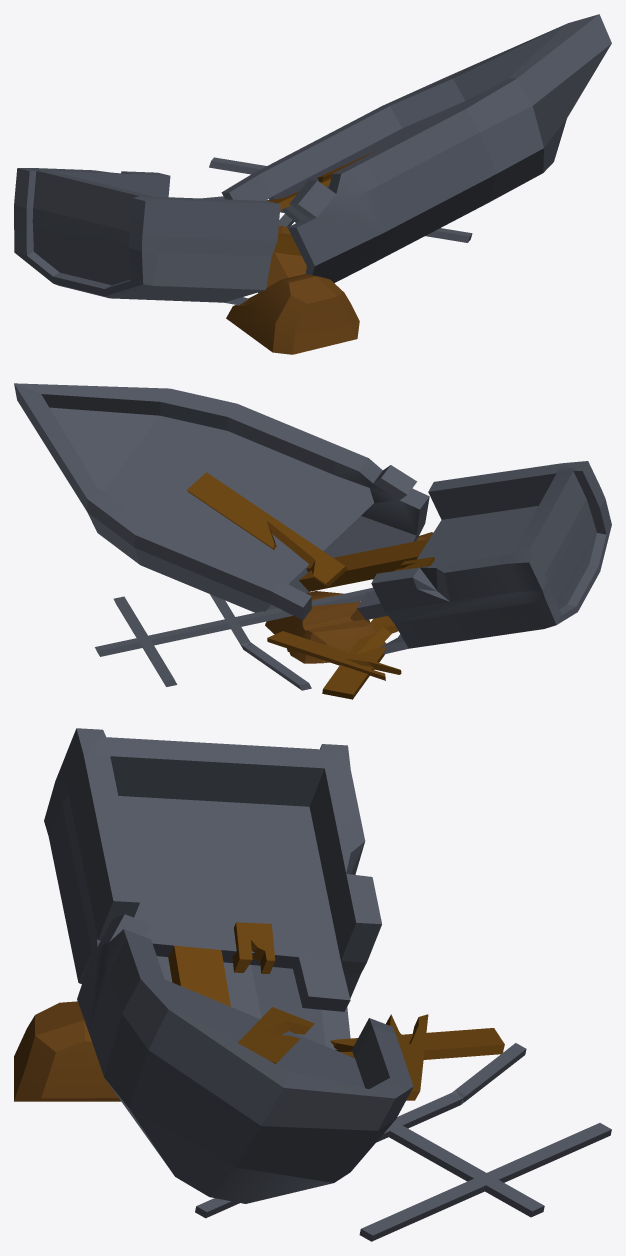
File: SM_Ship.fbx
3 views of the same model, one above another, from view 1: azimuth 30°, elevation 25°; view 2: azimuth 150°, elevation 25°; view 3: azimuth 270°, elevation 25° (orthographic). The views are drawn at different scales.
Parts seen in each view (by area): view 1: S_ship; view 2: S_ship; view 3: S_ship.
Boxes of the visible parts, <box> form: S_ship: <box>14,14,611,354</box>; S_ship: <box>14,383,611,699</box>; S_ship: <box>14,728,611,1241</box>.
Bounding box in the file's own units: 2219 × 665 × 1385.
